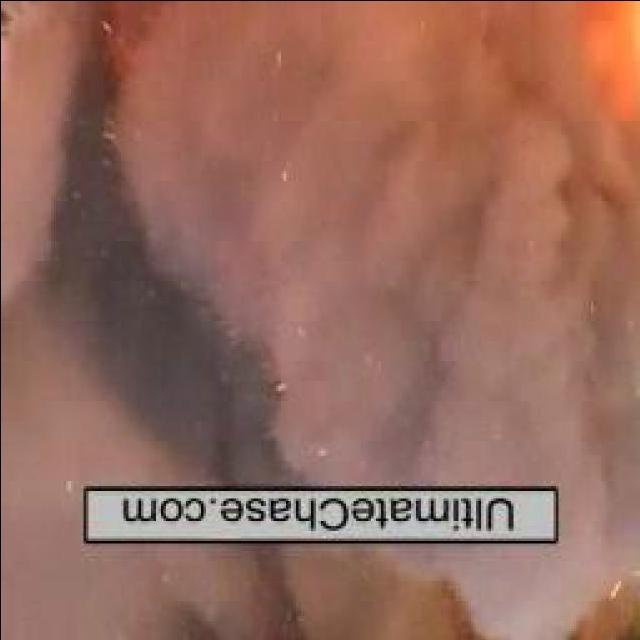Fire: (513, 0, 640, 182), (404, 565, 632, 640), (57, 0, 153, 104)
